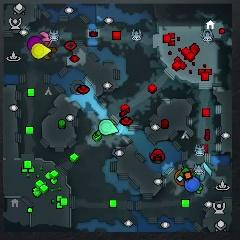p1: (184, 175, 201, 194)
p2: (99, 119, 119, 138)
p3: (27, 35, 45, 49)
p4: (31, 43, 51, 60)
p5: (175, 169, 185, 188)
x1: (40, 31, 55, 43)
x3: (200, 162, 212, 181)
x4: (177, 168, 195, 178)
x5: (43, 44, 58, 61)
